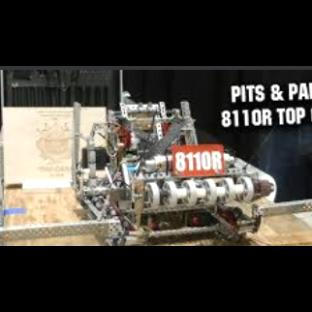Robot: (0, 92, 311, 245), (73, 92, 311, 244)
